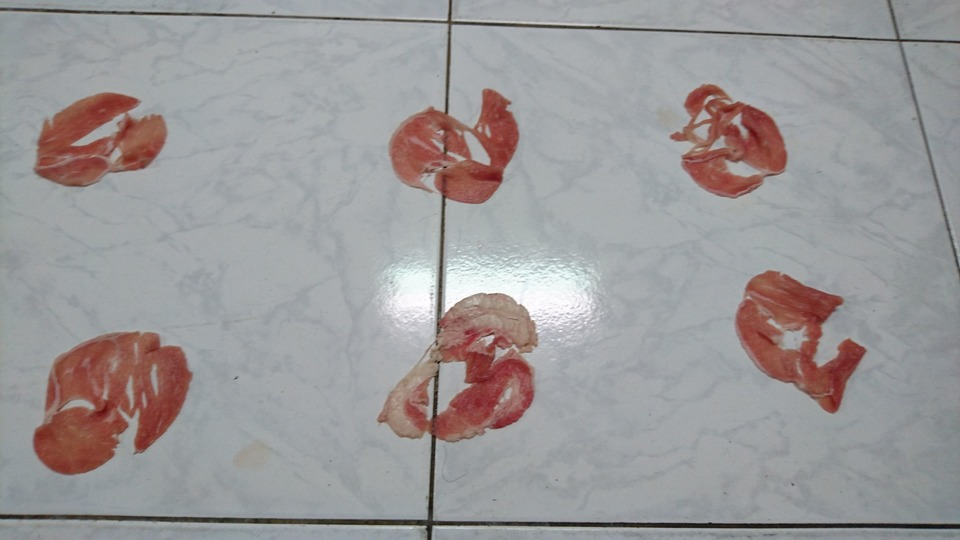restructured meat: (29, 322, 198, 479), (375, 294, 544, 451), (732, 262, 867, 415), (660, 69, 792, 211), (383, 84, 522, 205), (34, 91, 169, 189)
